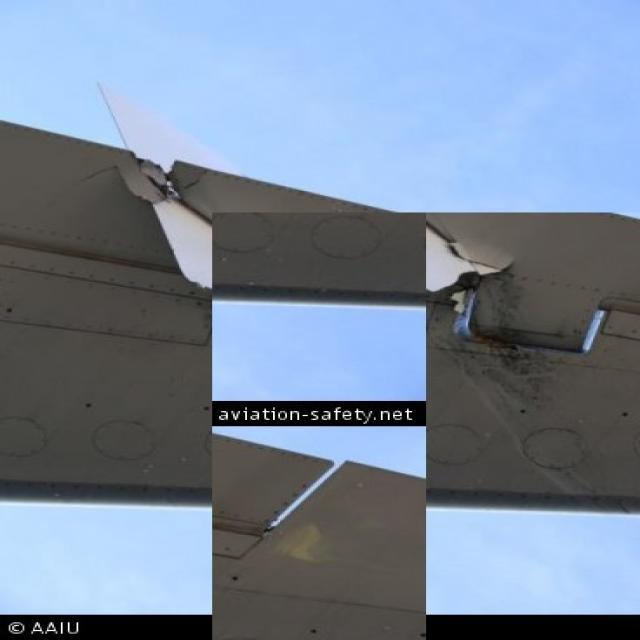crack: (45, 163, 141, 203)
